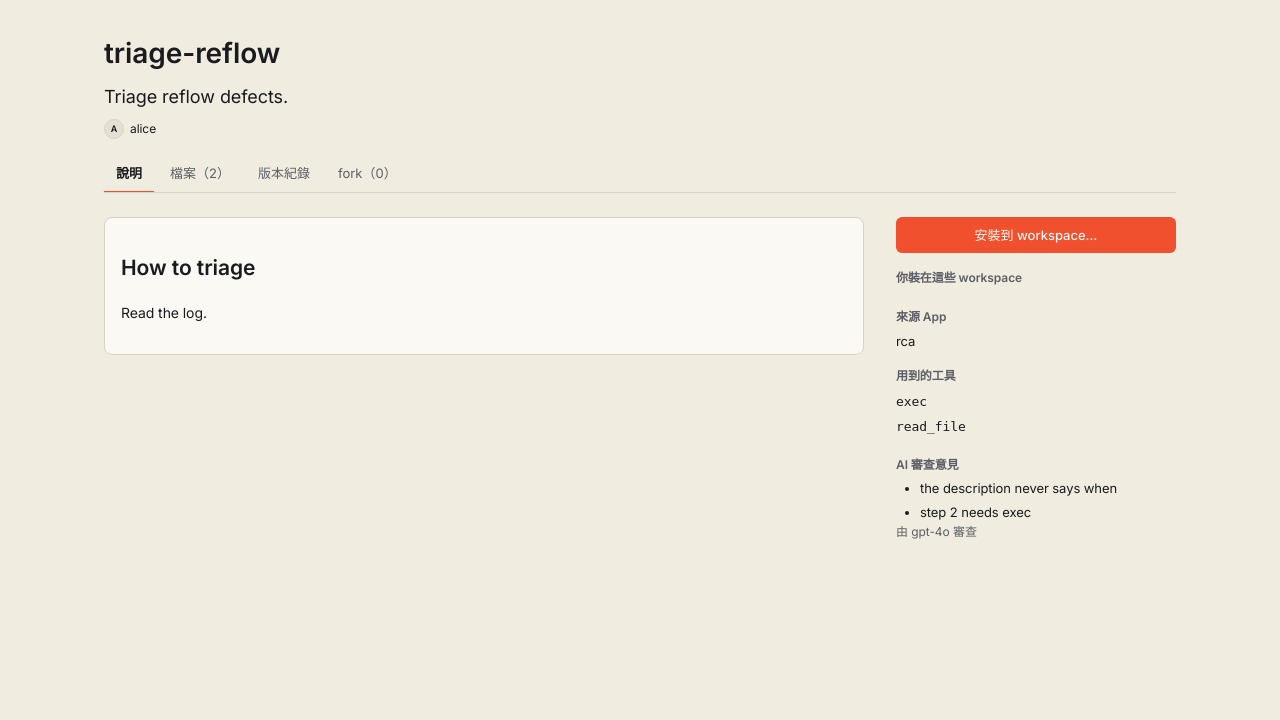
Test: SkillHubEntryPage layout (plan-skill-hub-ux-redo D3, D5, D6, D16) › installs into a workspace picked per App, and stays on the page (D6)
Click the button "安裝到 workspace…".
click(1036, 235)  # box left=896, top=217, right=1176, bottom=253
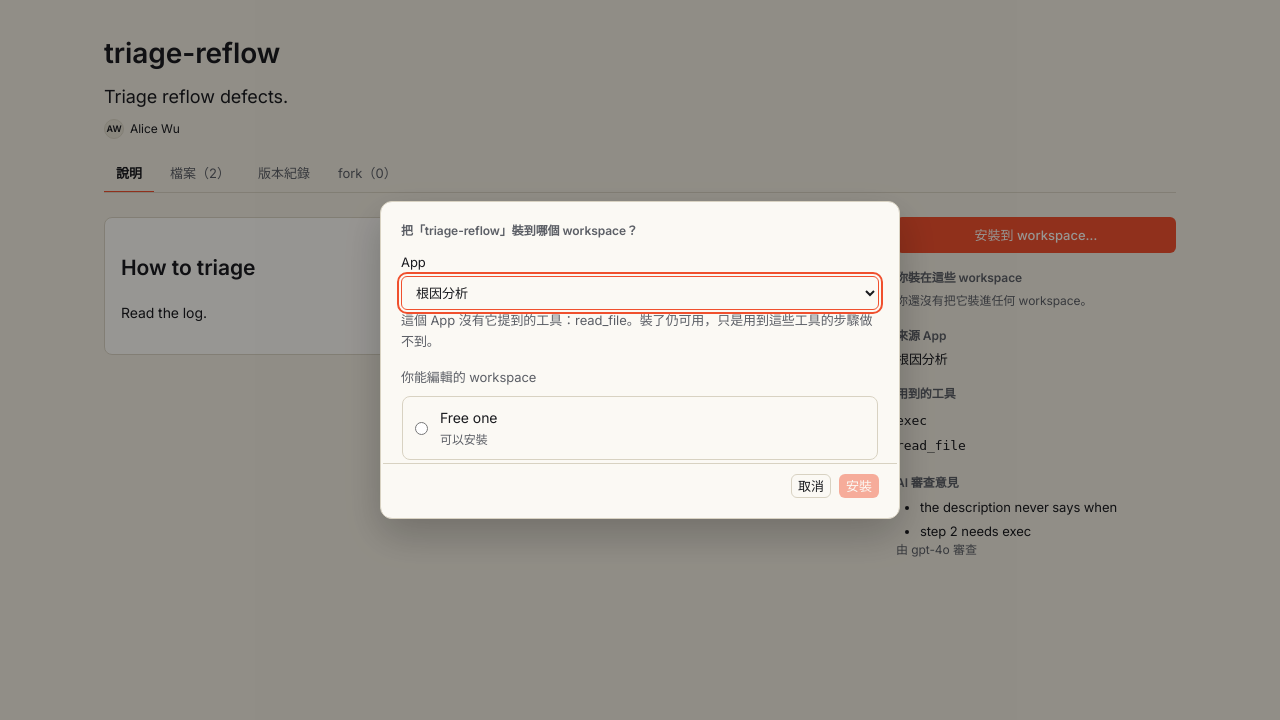
Expected: the button "安裝" is disabled, left=839, top=474, right=879, bottom=498
Expected: the radio button labelled "Free one 可以安裝" is enabled
Click the radio button labelled "Free one 可以安裝".
click(422, 428)  # box left=415, top=422, right=428, bottom=434
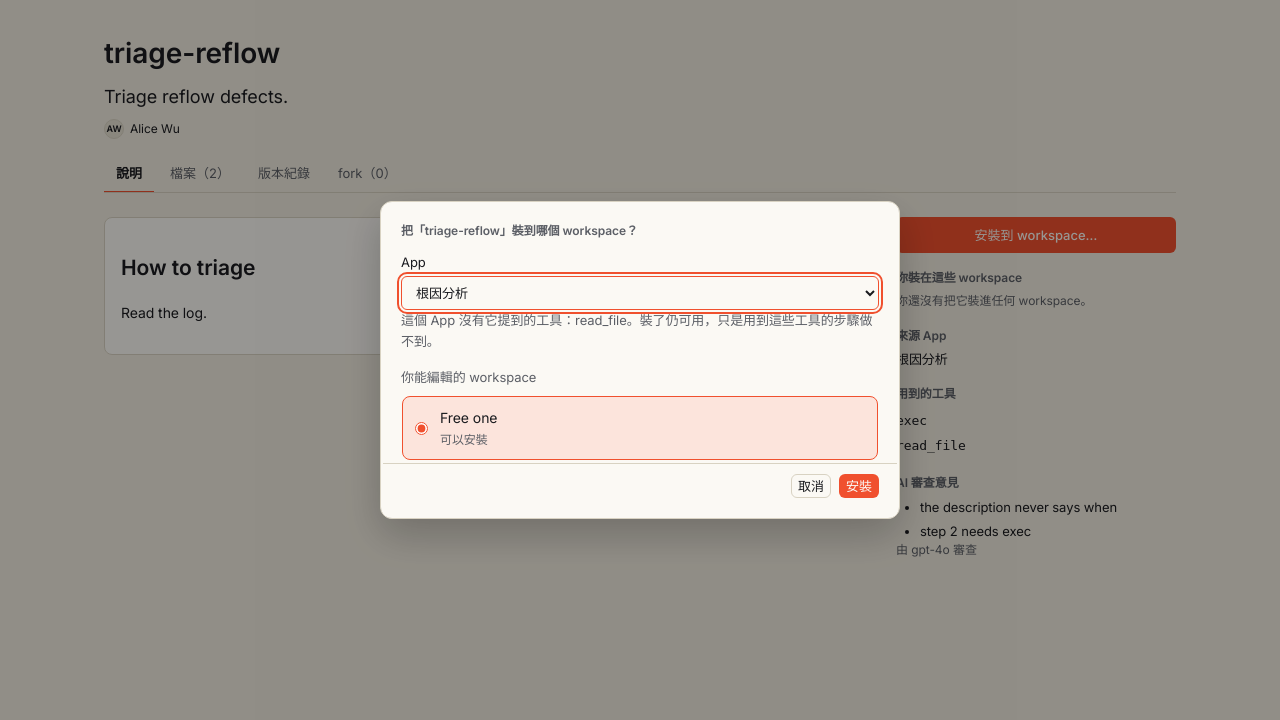
Click the button "安裝".
click(859, 486)  # box left=839, top=474, right=879, bottom=498
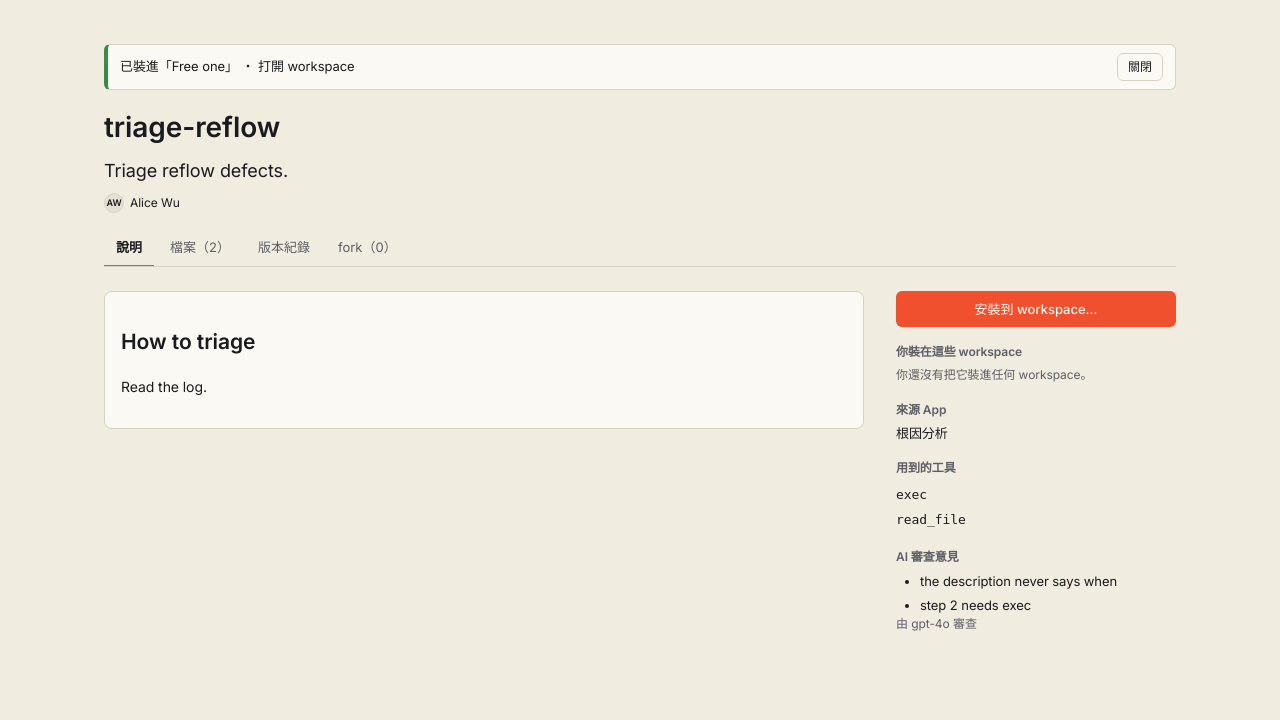
Expected: the dialog with test id "skill-hub-install" is gone
